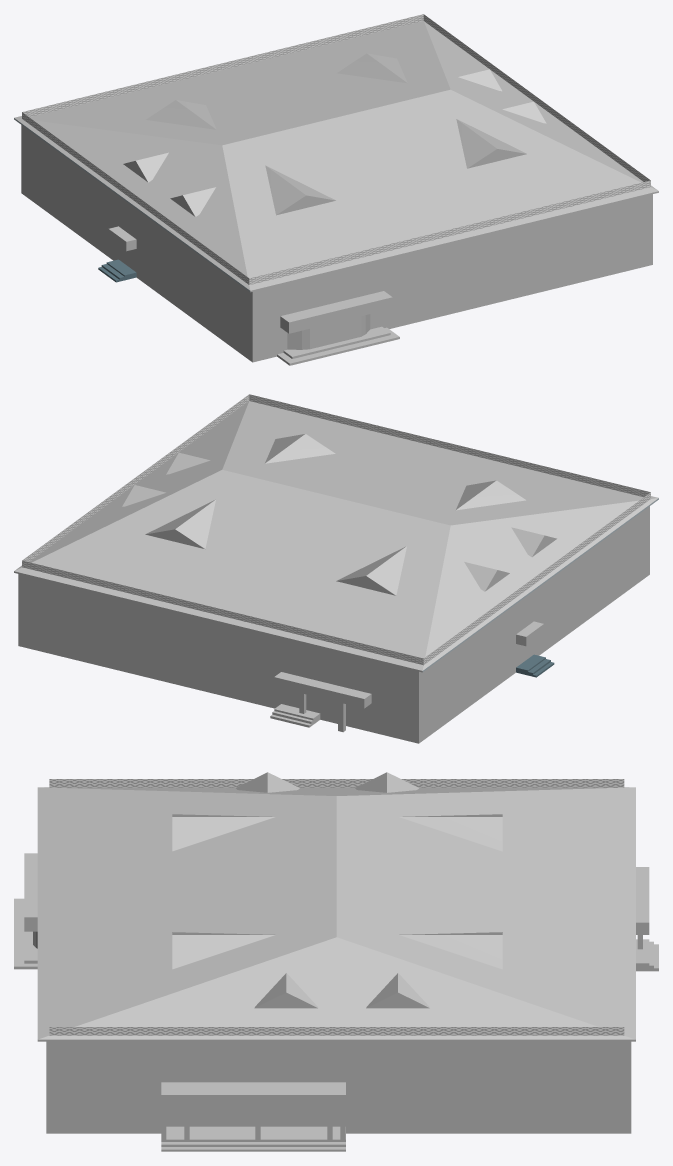
3 renders of one model, top to bottom at view 1: azimuth 30°, elevation 25°; view 2: azimuth 150°, elevation 25°; view 3: azimuth 270°, elevation 25°, orthographic. The views are drawn at different scales.
Visible parts, largest first — view 1: dom_byta_cover.004, dom_byta_side, dom_byta_cover.001, dom_byta_reshetka, dom_byta_mni_cover.001, dom_byta_prt_3, dom_byta_prt_2, dom_byta_cover, dom_byta_mni_cover.002, dom_byta.014; view 2: dom_byta_cover.004, dom_byta_side, dom_byta_cover.001, dom_byta_reshetka, dom_byta_mni_cover.001, dom_byta_prt_1, dom_byta_prt_2, dom_byta_cover, dom_byta_mni_cover.002, dom_byta.014; view 3: dom_byta_cover.004, dom_byta_side, dom_byta_mni_cover.001, dom_byta_prt_4, dom_byta_reshetka, dom_byta_cover.001, dom_byta_prt_3, dom_byta_cover, dom_byta_prt_1, dom_byta_mni_cover.002.
Part boxes in pixels (x1,y1,x2,y2): dom_byta_cover.004: (14,21,658,290); dom_byta_side: (21,125,652,362); dom_byta_cover.001: (14,118,250,290); dom_byta_reshetka: (22,14,650,284); dom_byta_mni_cover.001: (123,53,546,215); dom_byta_prt_3: (277,291,399,365); dom_byta_prt_2: (98,226,136,282); dom_byta_cover: (250,191,658,292); dom_byta_mni_cover.002: (170,187,215,216); dom_byta.014: (14,118,250,291); dom_byta_cover.004: (14,401,658,670); dom_byta_side: (18,506,649,743); dom_byta_cover.001: (422,498,658,670); dom_byta_reshetka: (22,394,650,665); dom_byta_mni_cover.001: (122,434,525,595); dom_byta_prt_1: (270,672,371,732); dom_byta_prt_2: (516,621,554,677); dom_byta_cover: (14,571,422,672); dom_byta_mni_cover.002: (511,527,556,556); dom_byta.014: (422,498,658,671); dom_byta_cover.004: (37,787,635,1039); dom_byta_side: (46,1041,631,1133); dom_byta_mni_cover.001: (172,772,502,1008); dom_byta_prt_4: (161,1082,345,1151); dom_byta_reshetka: (49,779,624,1035); dom_byta_cover.001: (44,787,628,795); dom_byta_prt_3: (14,853,37,969); dom_byta_cover: (37,1039,635,1041); dom_byta_prt_1: (636,867,658,971); dom_byta_mni_cover.002: (236,772,299,792).
Size of the model in its own units: 44.99 by 10.74 by 44.1.
